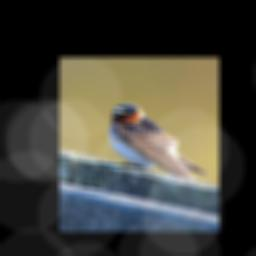Swallow: (107, 103, 209, 183)
